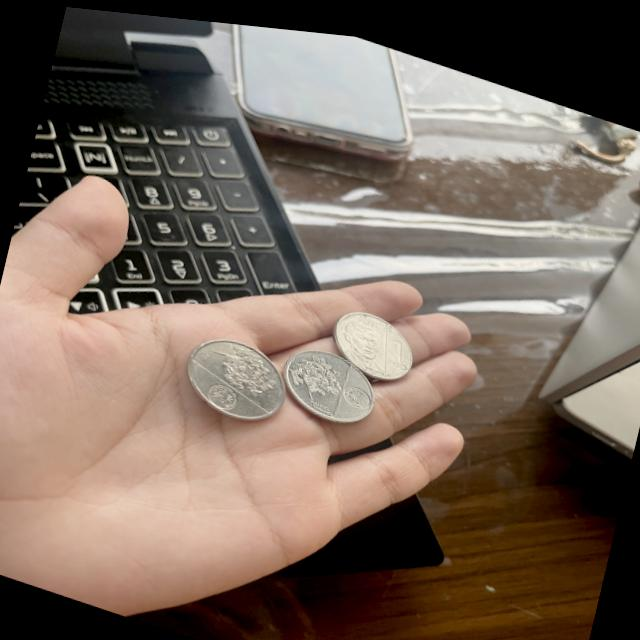1_New_Back: (207, 330, 282, 400), (285, 340, 347, 405)
1_New_Front: (380, 322, 416, 368)
